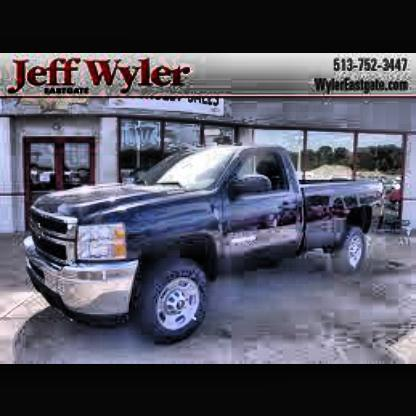Chevrolet Silverado 2500HD Regular Cab 2012: (25, 143, 391, 346)
